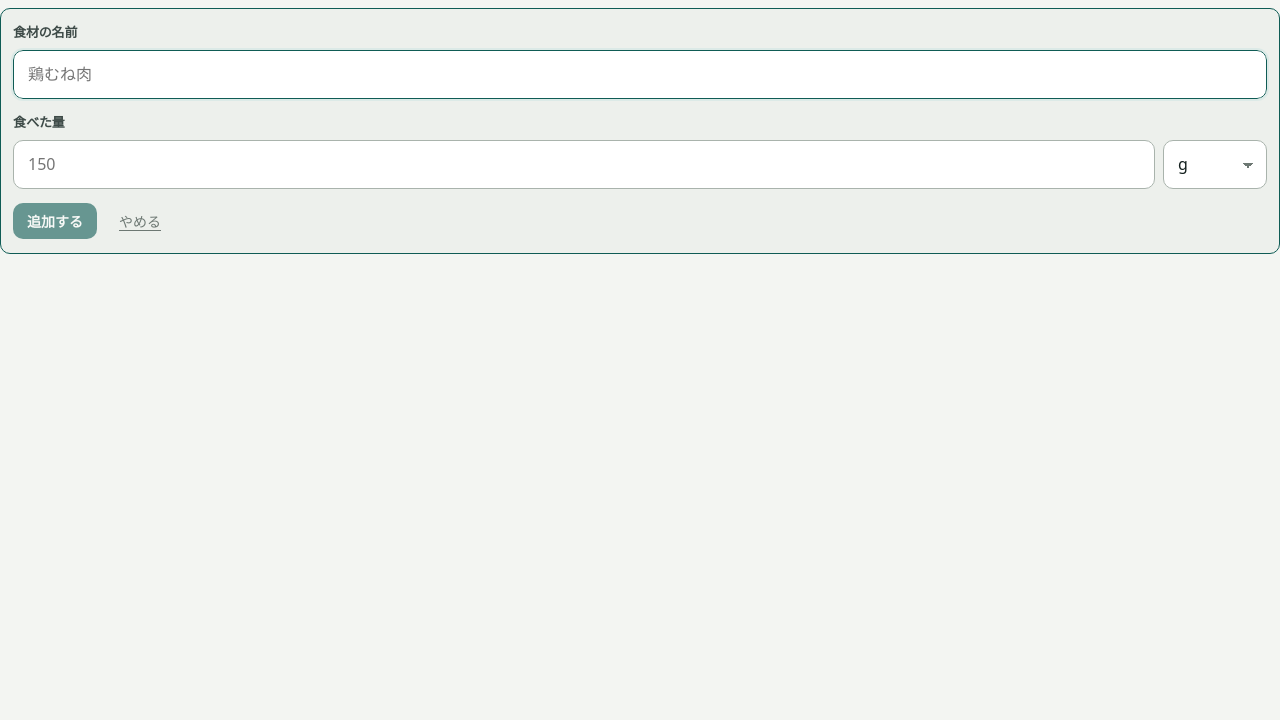
Test: 契約者が使うとき（canEditNutrition = false） › 似た食材があれば、そちらを選ぶよう促す
Type "鶏むね肉（皮なし）" into the field labelled "食材の名前" at (640,75), box [13,50,1267,99]
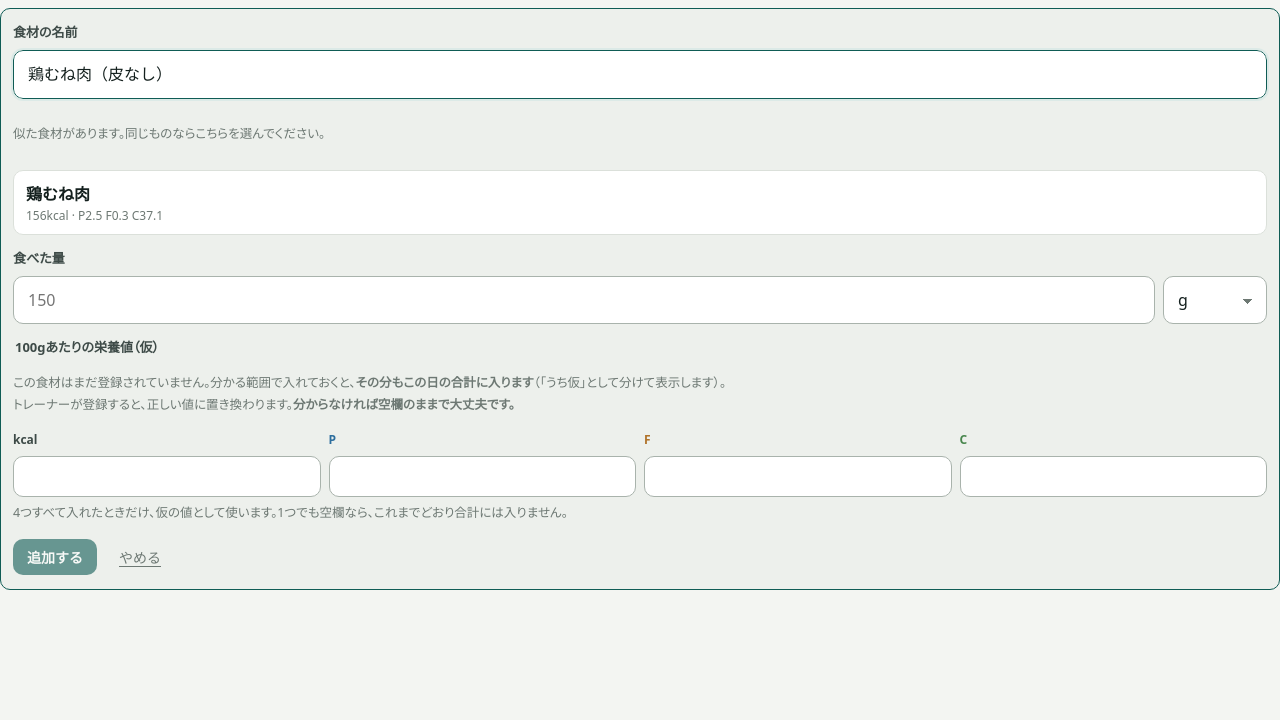
Check: the text "似た食材があります。同じものならこちらを選んでください。" is shown, box [13,125,325,142]
